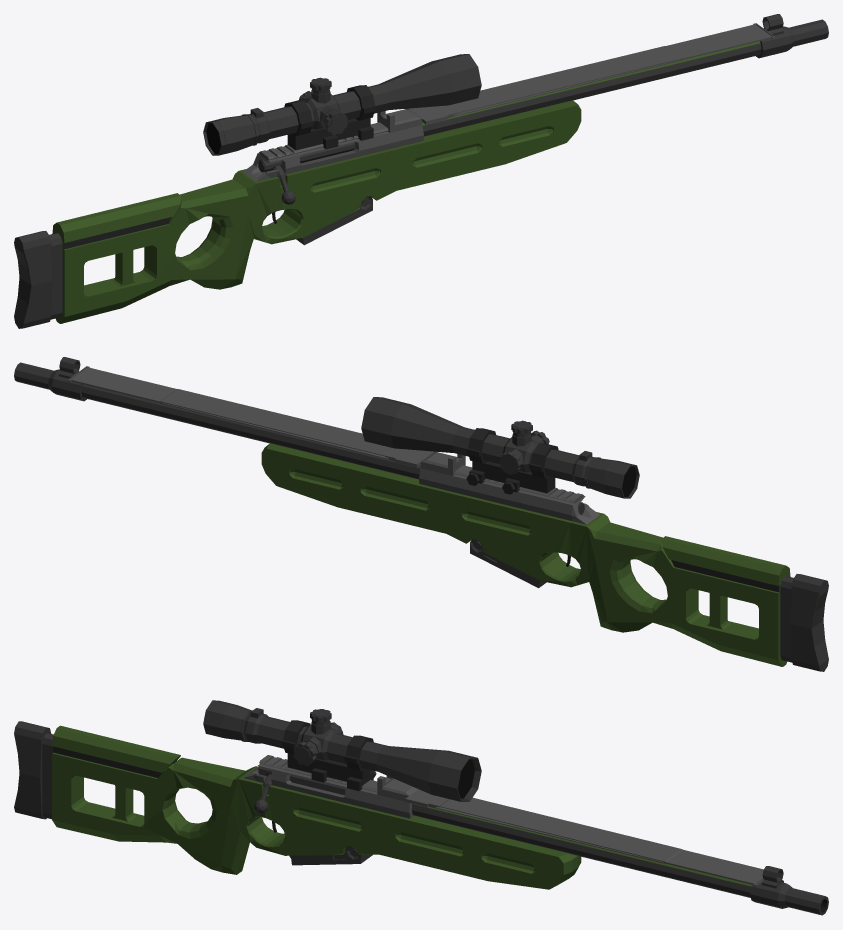
3 renders of one model, top to bottom at view 1: azimuth 30°, elevation 25°; view 2: azimuth 150°, elevation 25°; view 3: azimuth 330°, elevation 25°, orthographic.
Visible parts, largest first — view 1: Base, Sight (Opaque), Mount, Bolt, Mag; view 2: Base, Sight (Opaque), Mount, Mag; view 3: Base, Sight (Opaque), Mount, Bolt, Mag.
Part boxes in pixels (x1,y1,x2,y2): Base: (14,14,828,328); Sight (Opaque): (203,54,481,155); Mount: (284,85,376,150); Bolt: (258,142,355,204); Mag: (296,196,372,245); Base: (14,357,828,671); Sight (Opaque): (361,397,639,498); Mount: (466,428,558,494); Mag: (470,539,546,588); Base: (14,721,828,915); Sight (Opaque): (203,700,481,801); Mount: (281,720,376,791); Bolt: (254,766,345,813); Mag: (289,846,372,865).
Size of the model in its own units: 329 by 70.19 by 21.98.
